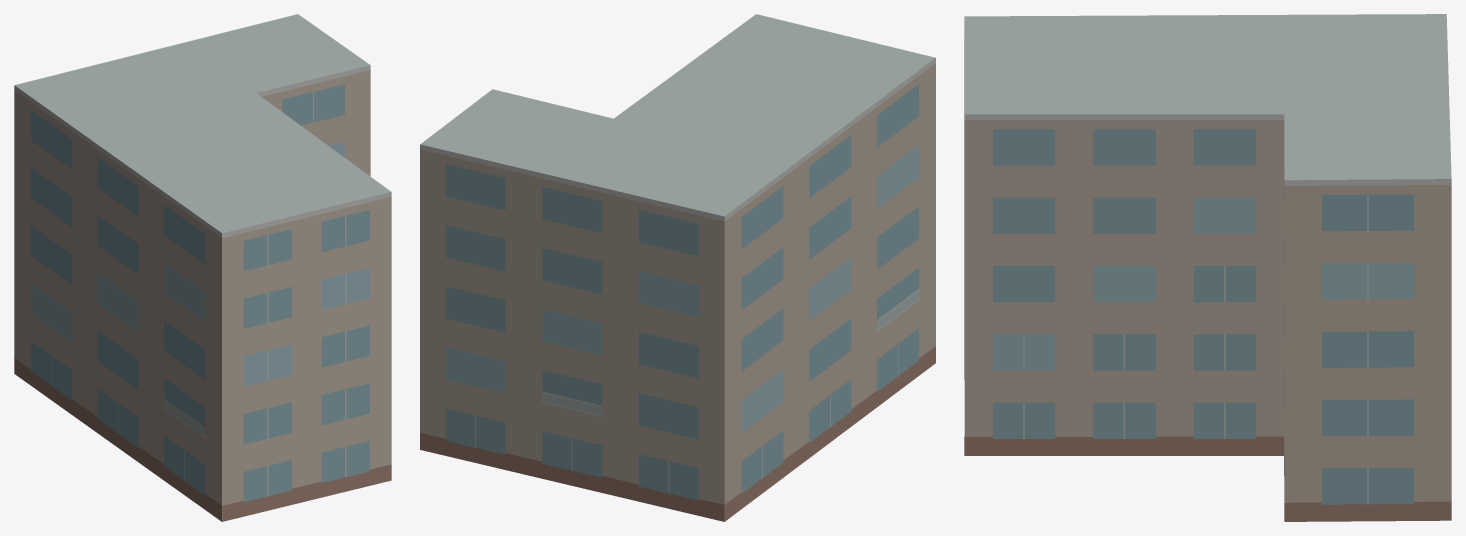
The model's file is survey-upis-32695205.glb.
The picture shows the model from 3 angles, left to right: view 1: azimuth 30°, elevation 25°; view 2: azimuth 150°, elevation 25°; view 3: azimuth 270°, elevation 25°; orthographic projection. The views are drawn at different scales.
Parts seen in each view (by area): view 1: survey-upis-32695205.tmp; view 2: survey-upis-32695205.tmp; view 3: survey-upis-32695205.tmp.
Boxes of the visible parts, <box> form: survey-upis-32695205.tmp: <box>14,14,391,521</box>; survey-upis-32695205.tmp: <box>420,14,935,521</box>; survey-upis-32695205.tmp: <box>964,14,1451,521</box>.
Bounding box in the file's own units: 14.93 × 14.3 × 18.49.
